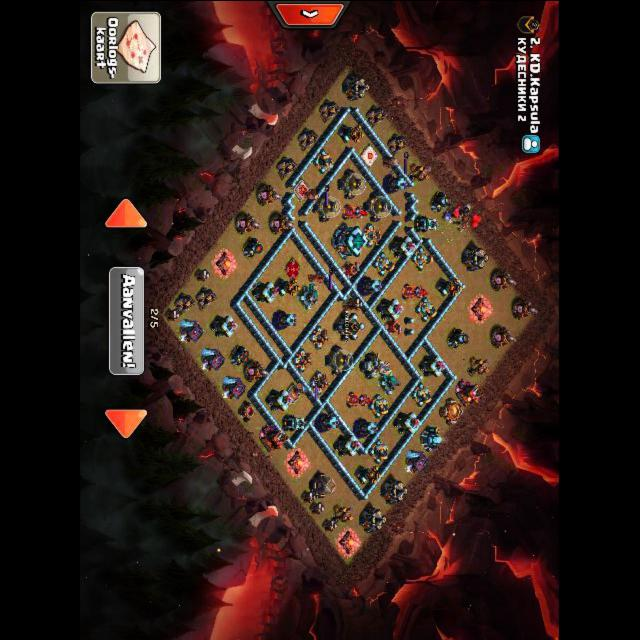AD: (436, 277, 464, 296), (355, 465, 383, 484), (274, 277, 301, 296), (338, 123, 366, 141)
AirSweeper: (384, 316, 403, 334), (342, 259, 361, 277)
BombTower: (415, 215, 441, 231), (283, 414, 308, 430)
Canon: (416, 296, 438, 321), (412, 245, 434, 270), (374, 250, 396, 275), (313, 148, 334, 173), (412, 381, 433, 406), (369, 438, 390, 463), (370, 393, 390, 418)
ClanCastle: (335, 311, 367, 339)
Eagle: (360, 351, 393, 377)
Inferno: (403, 282, 429, 298), (347, 392, 372, 407), (342, 204, 367, 219)
KingPad: (295, 178, 311, 200)
Mortar: (449, 327, 471, 348), (431, 191, 453, 212), (243, 236, 264, 257), (230, 344, 250, 365)
QueenPad: (285, 257, 302, 280)
RcPad: (287, 384, 301, 403)
Scattershot: (379, 367, 402, 393), (298, 282, 320, 308)
TH13: (332, 225, 371, 256)
WardenPad: (363, 144, 378, 164)
WizzTower: (273, 310, 298, 328), (384, 173, 409, 191), (353, 418, 378, 436), (315, 412, 340, 430), (360, 276, 384, 294)
Xbow: (310, 370, 332, 395), (310, 324, 332, 349), (293, 347, 314, 372), (362, 222, 382, 247)
